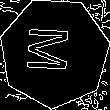M_E: (28, 28, 81, 77)
